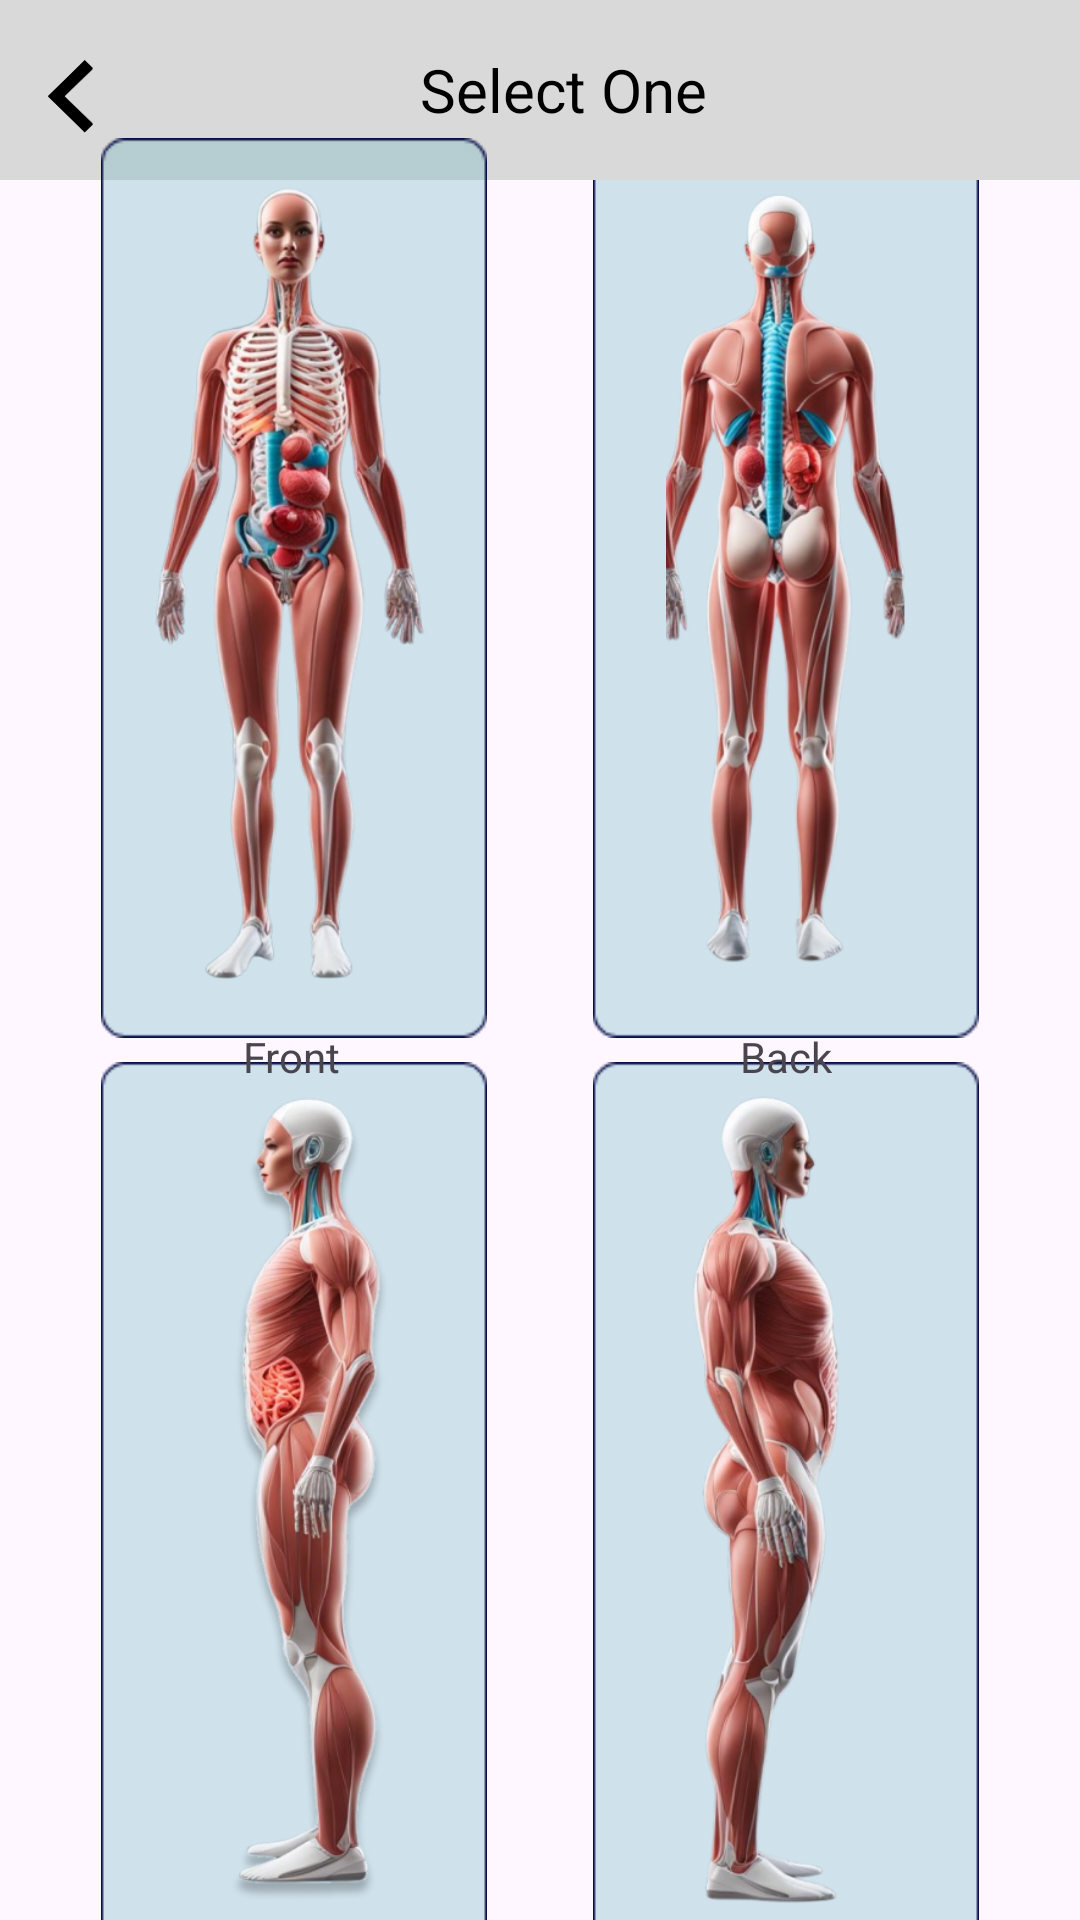

Point at icon controls on the screen. Image size 1080x1920, points as point (x, y).
back: point (70, 96)
